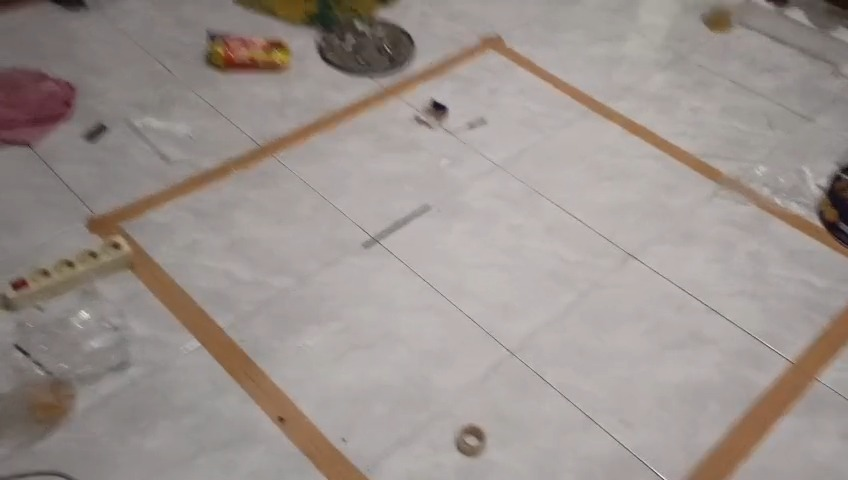floor marking: (87, 35, 847, 479), (687, 306, 847, 479)
